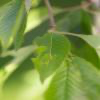Cherry leaf: (28, 28, 74, 88)
